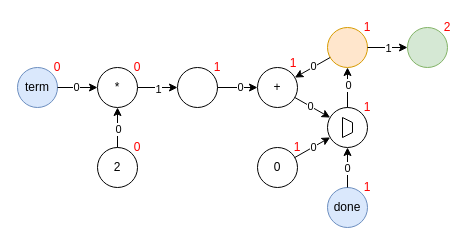
Image size: 475x245. Some labels were removed from this diagram. Here are the shapes that lost their labels. From the top down, the box of each, then its label:
(326, 26, 368, 68): total
(406, 26, 448, 68): total out
(176, 66, 218, 108): term twice
